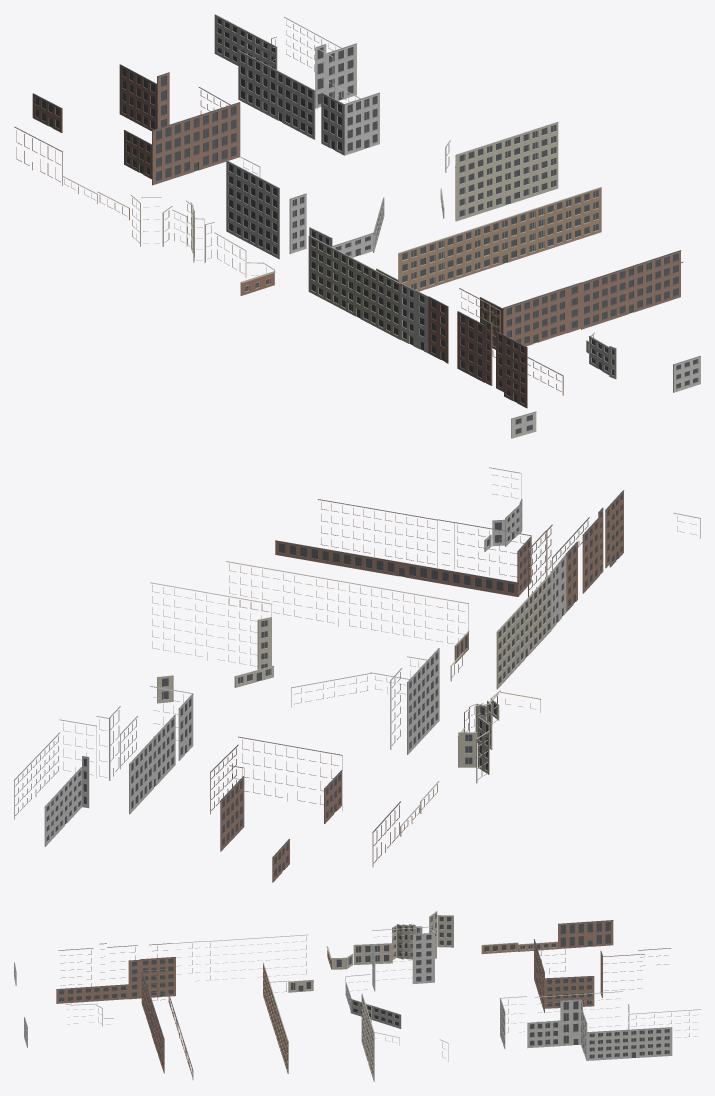
3 renders of one model, top to bottom at view 1: azimuth 30°, elevation 25°; view 2: azimuth 150°, elevation 25°; view 3: azimuth 270°, elevation 25°, orthographic. The views are drawn at different scales.
Visible parts, largest first — view 1: f:way/132558228, f:way/26378099, f:way/26378136, f:way/164110938, f:way/26378138, f:way/38006429, f:way/132558143, f:way/26378137, f:way/26987097, f:way/26987090, f:way/132558227; view 2: f:way/132558228, f:way/164110938, f:way/132558143, f:way/26378099, f:way/26378137, f:way/38006429, f:way/26378138, f:way/26987097, f:way/26378136, f:way/26987090, f:way/132558227; view 3: f:way/132558228, f:way/132558143, f:way/26987097, f:way/38006429, f:way/26378099, f:way/132558230, f:way/164110938, f:way/26378136, f:way/26378138, f:way/26378137, f:way/132558147.
Part boxes in pixels (bbox=[...]): f:way/132558228: bbox=[214, 14, 379, 155]; f:way/26378099: bbox=[32, 64, 240, 185]; f:way/26378136: bbox=[376, 187, 601, 291]; f:way/164110938: bbox=[480, 250, 683, 349]; f:way/26378138: bbox=[440, 121, 558, 221]; f:way/38006429: bbox=[226, 157, 384, 259]; f:way/132558143: bbox=[428, 288, 563, 408]; f:way/26378137: bbox=[308, 235, 400, 339]; f:way/26987097: bbox=[130, 195, 275, 295]; f:way/26987090: bbox=[586, 332, 700, 392]; f:way/132558227: bbox=[400, 283, 428, 352]; f:way/132558228: bbox=[14, 686, 193, 846]; f:way/164110938: bbox=[275, 499, 531, 596]; f:way/132558143: bbox=[528, 490, 624, 611]; f:way/26378099: bbox=[210, 736, 342, 882]; f:way/26378137: bbox=[450, 572, 551, 689]; f:way/38006429: bbox=[291, 648, 439, 754]; f:way/26378138: bbox=[150, 582, 273, 703]; f:way/26987097: bbox=[457, 690, 540, 783]; f:way/26378136: bbox=[226, 561, 469, 663]; f:way/26987090: bbox=[484, 467, 522, 551]; f:way/132558227: bbox=[551, 554, 566, 629]; f:way/132558228: bbox=[500, 991, 700, 1060]; f:way/132558143: bbox=[56, 943, 175, 1003]; f:way/26987097: bbox=[326, 911, 453, 969]; f:way/38006429: bbox=[345, 926, 434, 1028]; f:way/26378099: bbox=[534, 939, 671, 1012]; f:way/132558230: bbox=[558, 920, 613, 948]; f:way/164110938: bbox=[141, 969, 193, 1079]; f:way/26378136: bbox=[263, 962, 288, 1073]; f:way/26378138: bbox=[361, 993, 448, 1081]; f:way/26378137: bbox=[203, 934, 313, 992]; f:way/132558147: bbox=[481, 941, 557, 953].
Size of the model in its own units: 113 by 20.97 by 240.
